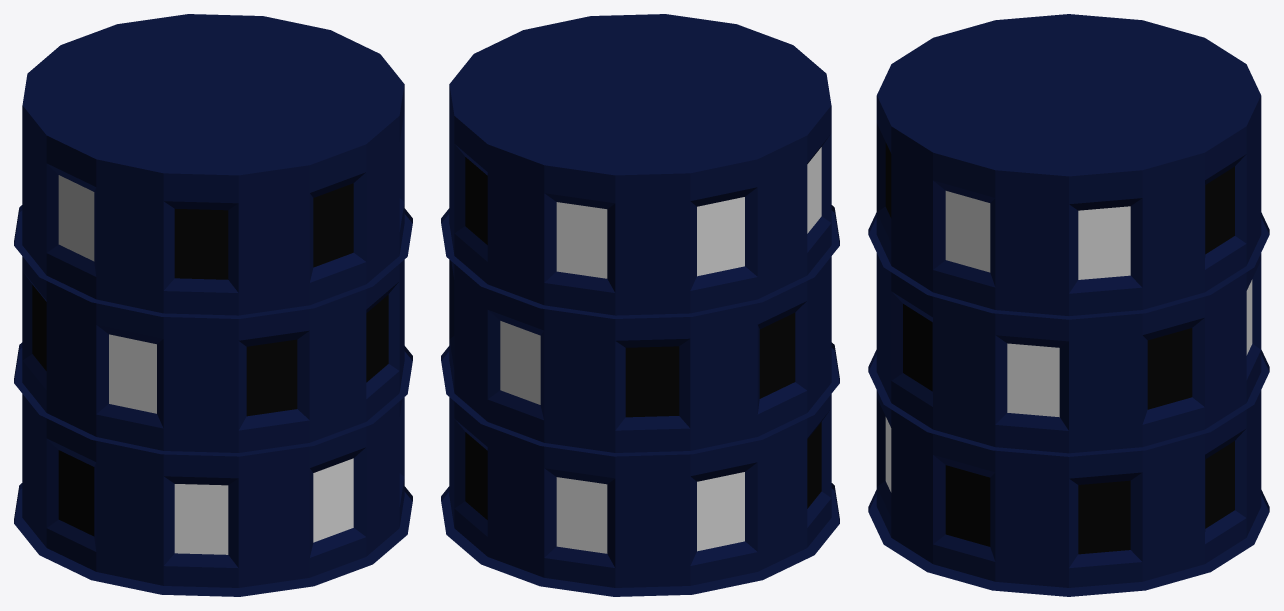
File: tmkllr_skyScrapper.fbx
3 views of the same model, side by side, from view 1: azimuth 30°, elevation 25°; view 2: azimuth 150°, elevation 25°; view 3: azimuth 270°, elevation 25° (orthographic).
Parts seen in each view (by area): view 1: Cylinder.001; view 2: Cylinder.001; view 3: Cylinder.001.
Boxes of the visible parts, box(x1,y1,x2,y2) form: Cylinder.001: box(14, 14, 412, 596); Cylinder.001: box(441, 14, 839, 596); Cylinder.001: box(868, 14, 1269, 596).
Size of the model in its own units: 2.09 by 2.39 by 2.09.
